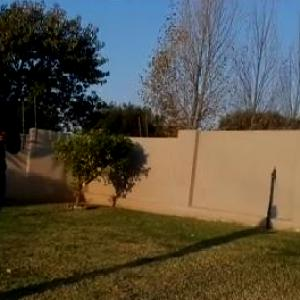follow: (0, 39, 26, 299)
